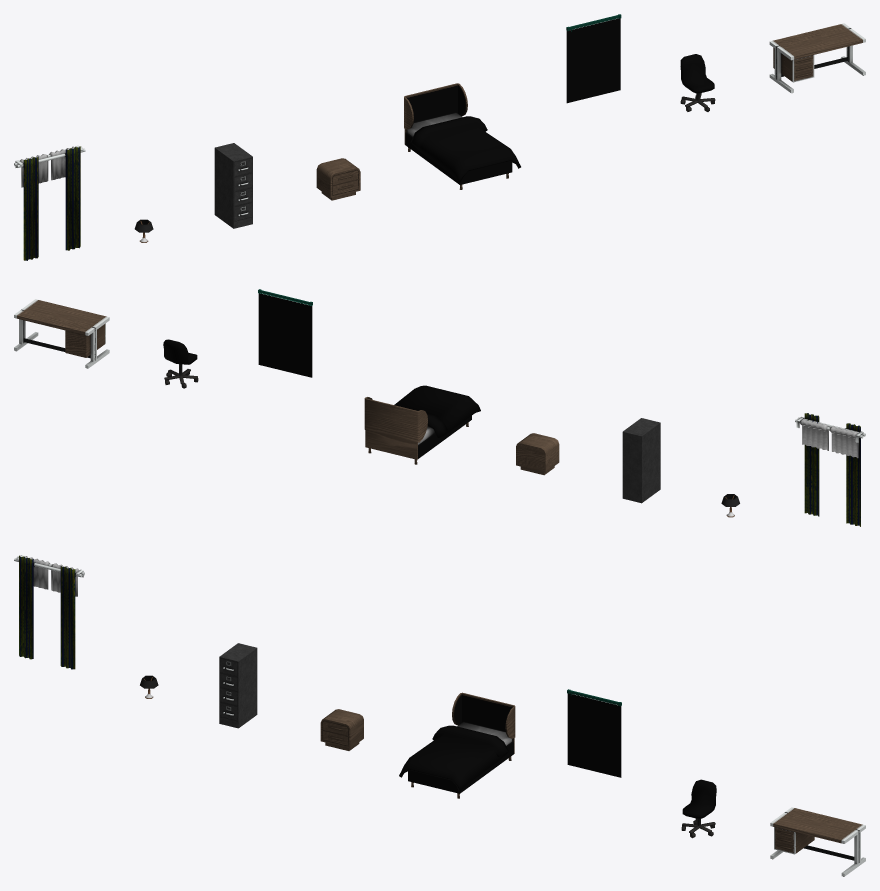
Rendered from Apt Props Retro.fbx.
3 views of the same model, one above another, from view 1: azimuth 30°, elevation 25°; view 2: azimuth 150°, elevation 25°; view 3: azimuth 330°, elevation 25° (orthographic).
Parts seen in each view (by area): view 1: Retro Bed, Plastic Blinds, Retro Curtains, Retro Desk, Retro Filing Cabinet, Retro Nightstand, Retro Chair; view 2: Retro Bed, Plastic Blinds, Retro Curtains, Retro Desk, Retro Filing Cabinet, Retro Nightstand, Retro Chair; view 3: Retro Bed, Plastic Blinds, Retro Curtains, Retro Desk, Retro Filing Cabinet, Retro Nightstand, Retro Chair.
Part boxes in pixels (bbox=[...]): Retro Bed: bbox=[404, 83, 520, 189]; Plastic Blinds: bbox=[566, 14, 621, 103]; Retro Curtains: bbox=[14, 145, 85, 260]; Retro Desk: bbox=[769, 23, 865, 93]; Retro Filing Cabinet: bbox=[214, 143, 252, 228]; Retro Nightstand: bbox=[316, 158, 360, 200]; Retro Chair: bbox=[680, 54, 715, 111]; Retro Bed: bbox=[364, 385, 480, 464]; Plastic Blinds: bbox=[258, 289, 312, 377]; Retro Curtains: bbox=[795, 413, 865, 526]; Retro Desk: bbox=[14, 299, 109, 368]; Retro Filing Cabinet: bbox=[622, 418, 660, 503]; Retro Nightstand: bbox=[516, 433, 559, 475]; Retro Chair: bbox=[163, 339, 198, 388]; Retro Bed: bbox=[399, 692, 515, 798]; Plastic Blinds: bbox=[567, 689, 621, 777]; Retro Curtains: bbox=[14, 555, 84, 669]; Retro Desk: bbox=[770, 807, 865, 876]; Retro Filing Cabinet: bbox=[219, 643, 257, 728]; Retro Nightstand: bbox=[320, 709, 363, 750]; Retro Chair: bbox=[681, 779, 716, 838].
Size of the model in its own units: 56.25 by 7.4 by 6.87.
